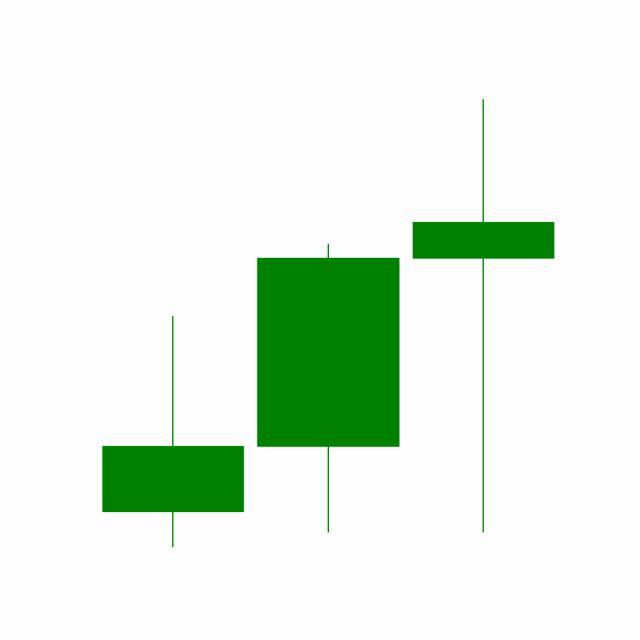Spinning Top: (406, 94, 562, 538)
